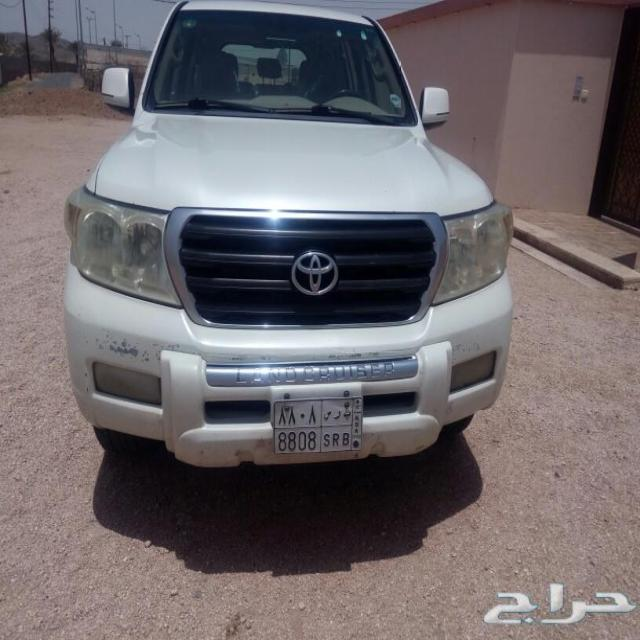license_plate: (271, 393, 365, 456)
